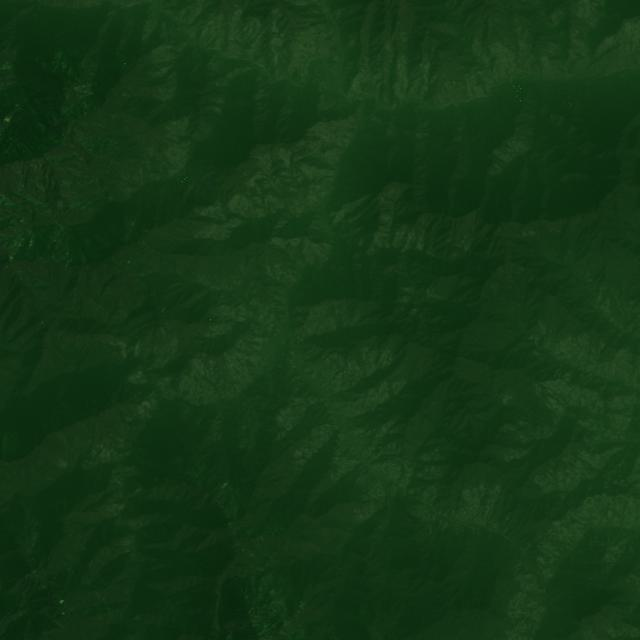landslides: (261, 606, 285, 632), (52, 49, 62, 72), (77, 80, 95, 88), (2, 59, 18, 68), (53, 198, 60, 218), (97, 29, 109, 40), (73, 86, 91, 93), (535, 556, 547, 566), (25, 95, 38, 103)
